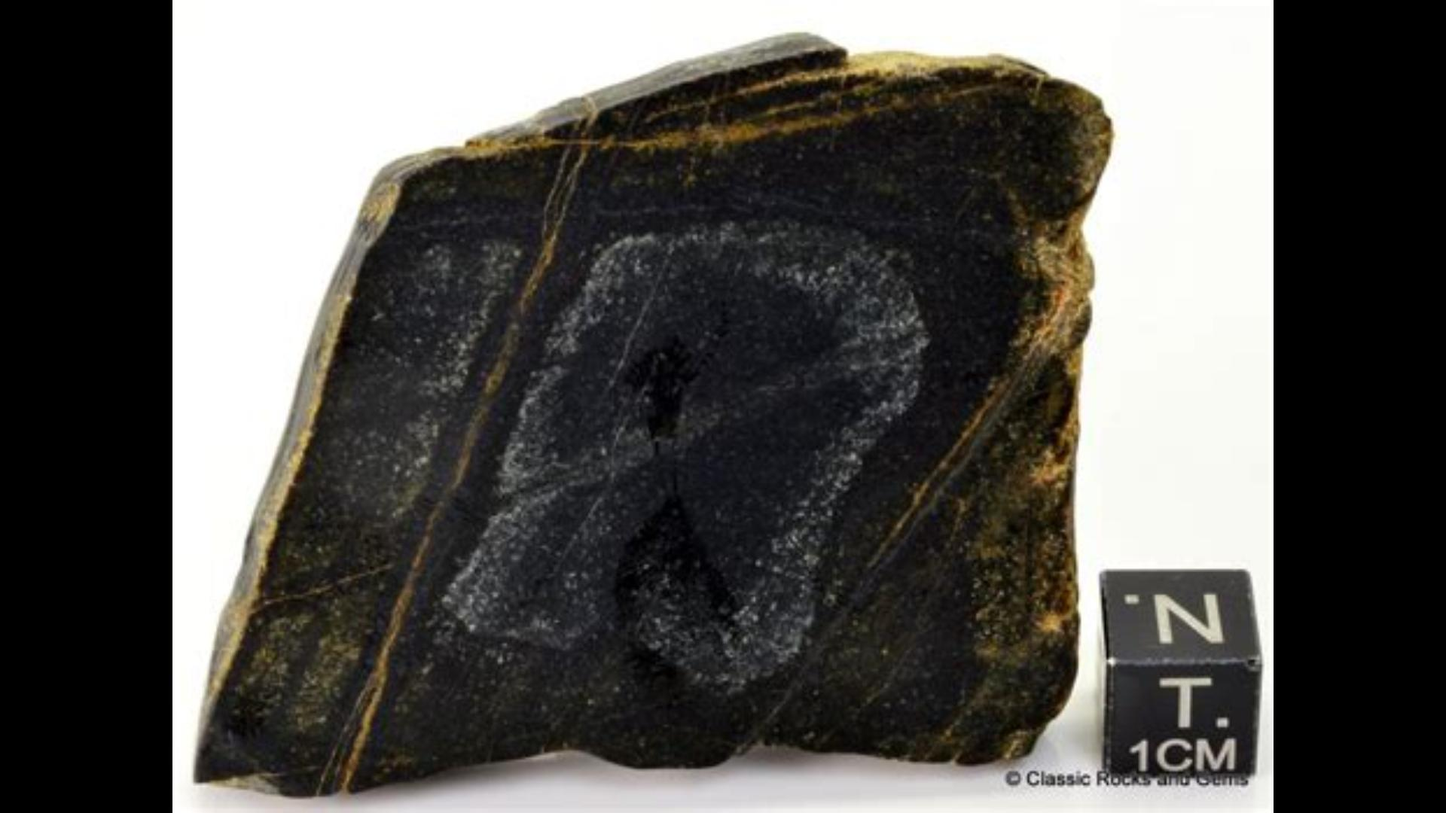rock: (198, 39, 1107, 792)
